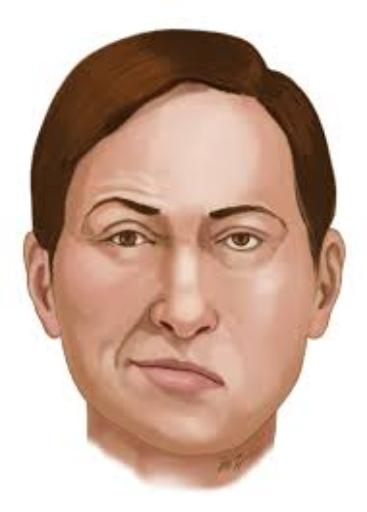left_eye: (215, 231, 270, 257)
left_lip_corner: (211, 372, 231, 395)
right_eye: (98, 227, 157, 254)
right_lip_corner: (124, 352, 145, 376)
